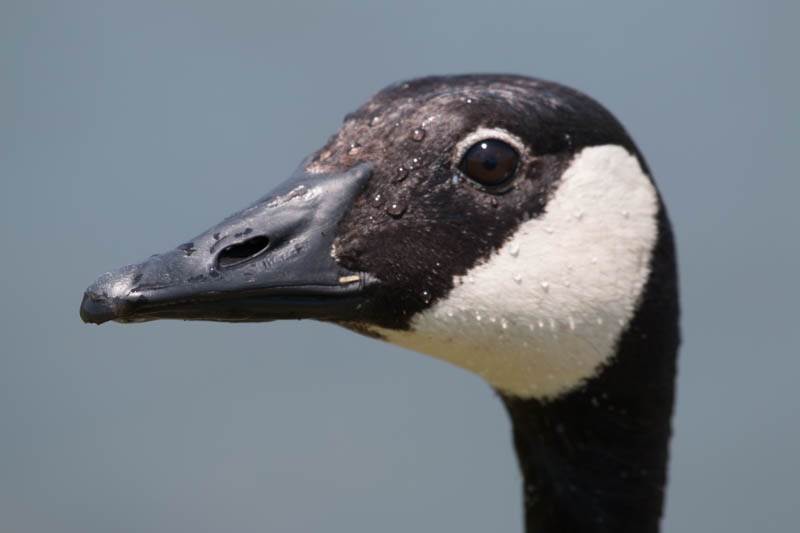goose-head: (79, 72, 680, 406)
